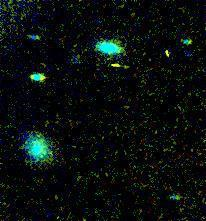star: (104, 48, 134, 78)
